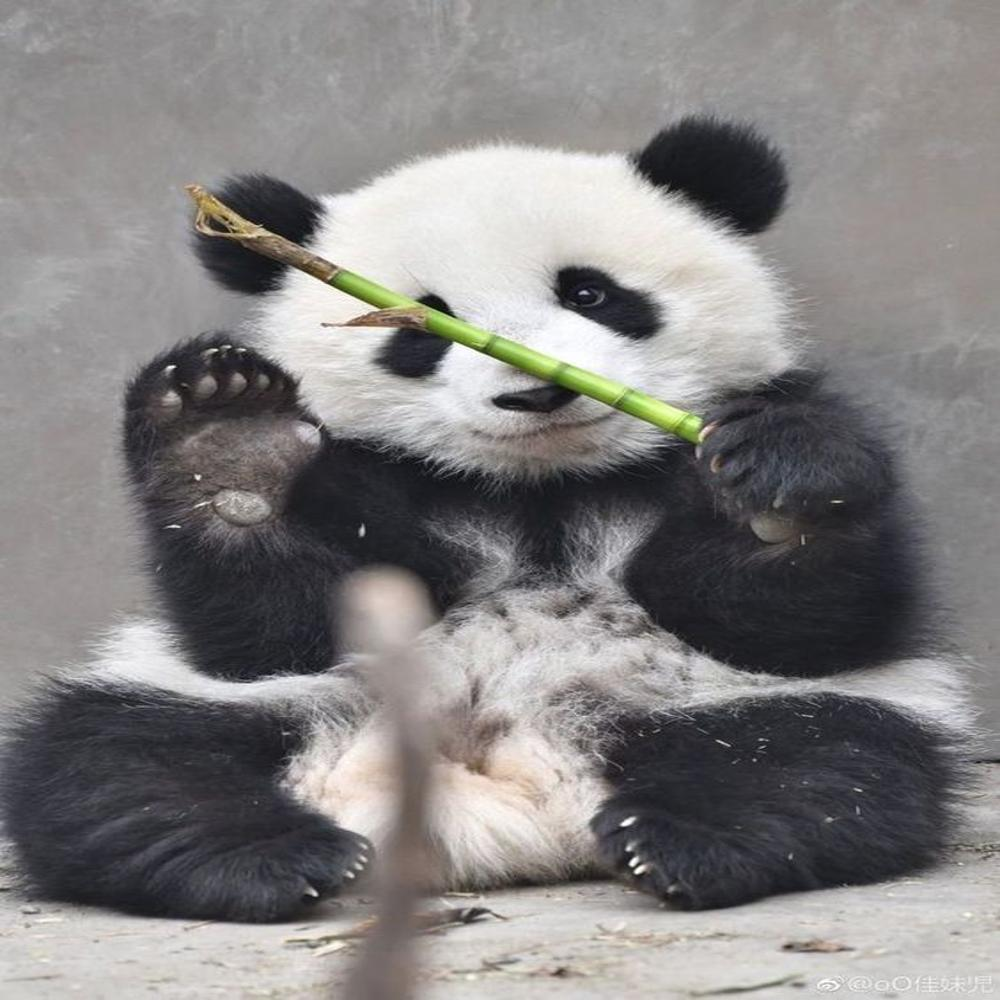panda: (8, 116, 1000, 899)
